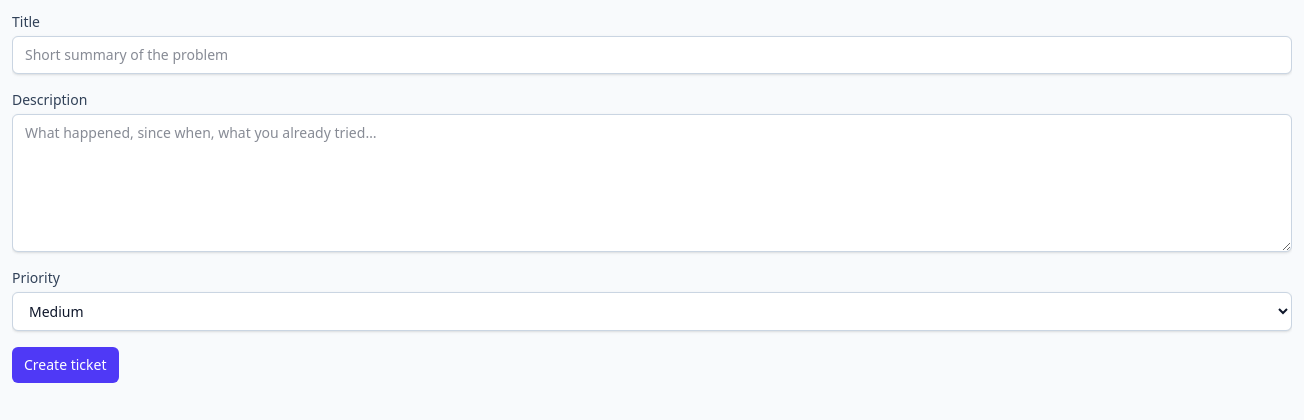
it: NewTicketForm › maps server-side validation errors to fields
In the field labelled "Title": (652, 55) [12,36,1292,74], type "x"
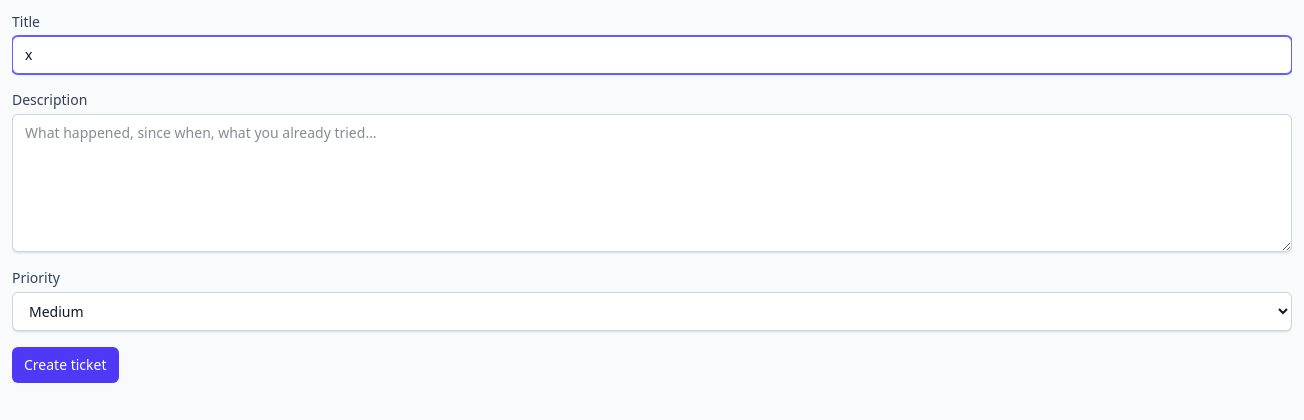
In the text box labelled "Description": (652, 183) [12,114,1292,252], type "y"
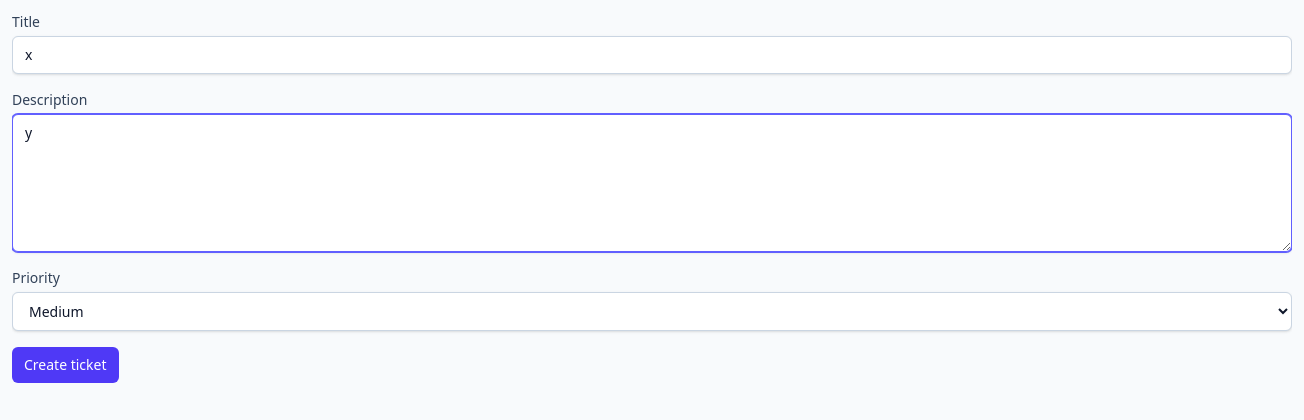
Click the button "Create ticket": (65, 365) [12,347,118,383]
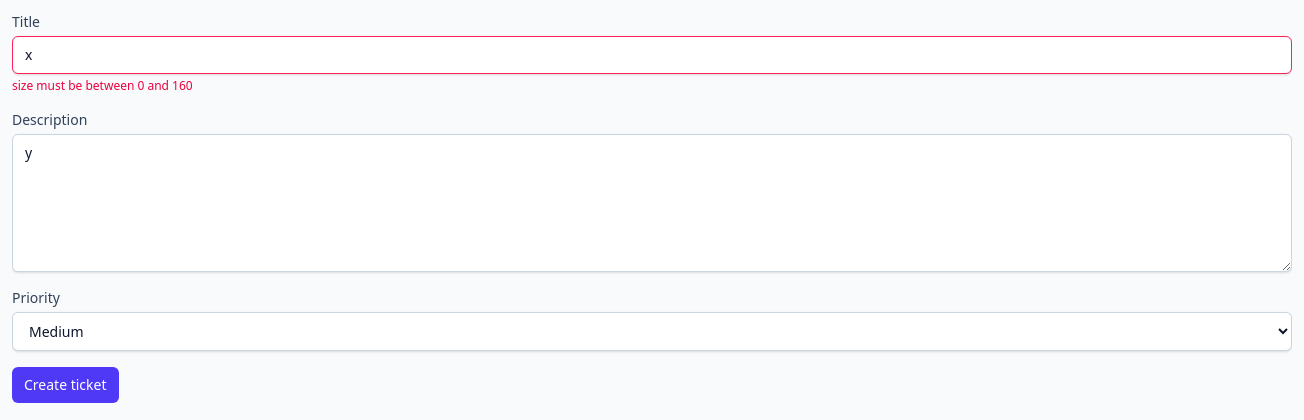
Now the text "size must be between 0 and 160" is shown, box [12,77,193,94]
